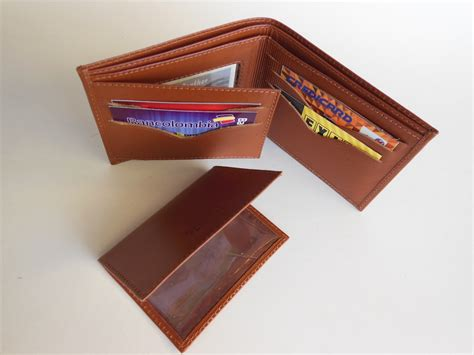cuero: (71, 17, 435, 351)
